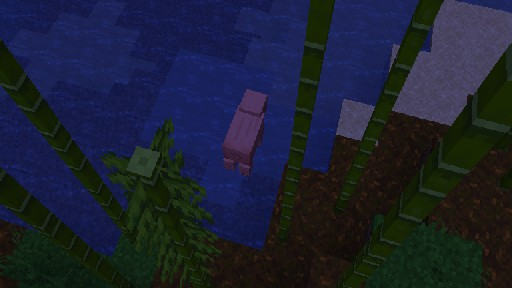pig: (221, 87, 267, 177)
